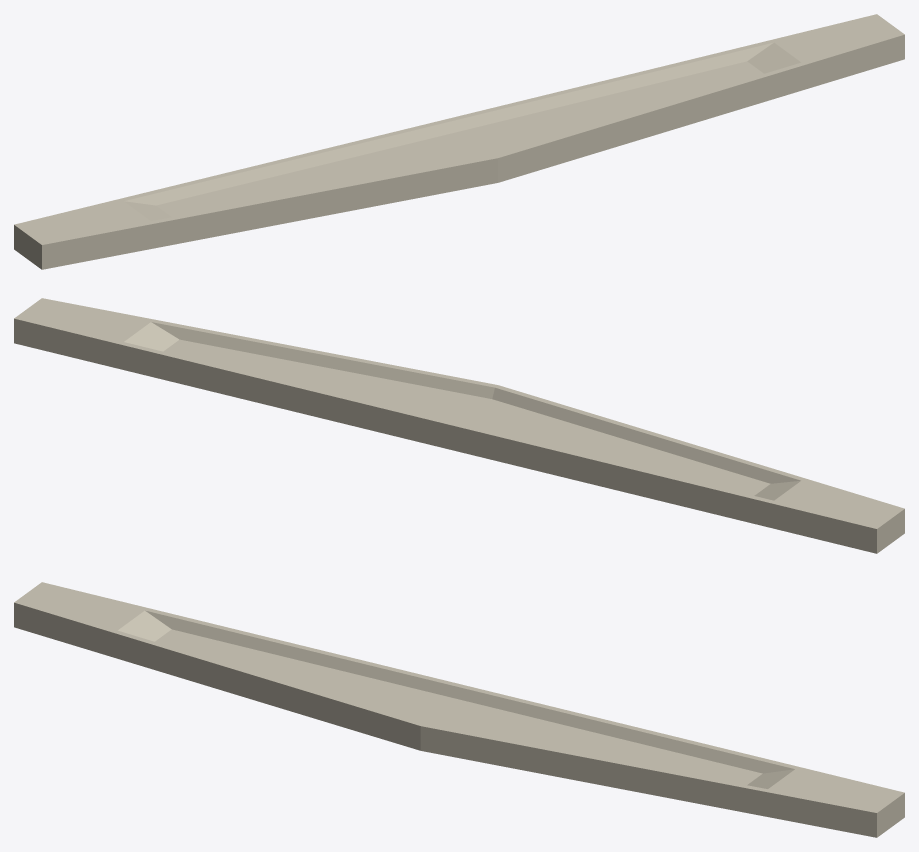
The model's file is Cirtesu - Viga techo.obj.
The picture shows the model from 3 angles, top to bottom: view 1: azimuth 30°, elevation 25°; view 2: azimuth 150°, elevation 25°; view 3: azimuth 330°, elevation 25°; orthographic projection.
Visible parts, largest first — view 1: mesh14, mesh12, mesh4, mesh1, mesh15, mesh16, mesh3; view 2: mesh2, mesh14, mesh12, mesh13, mesh17, mesh16, mesh3; view 3: mesh14, mesh12, mesh1, mesh4, mesh15, mesh18, mesh0.
Boxes of the visible parts, <box> form: mesh14: <box>156,61,763,216</box>; mesh12: <box>14,14,904,244</box>; mesh4: <box>42,158,498,269</box>; mesh1: <box>498,34,904,182</box>; mesh15: <box>124,42,773,205</box>; mesh16: <box>747,42,800,73</box>; mesh3: <box>14,225,41,269</box>; mesh2: <box>14,318,876,553</box>; mesh14: <box>163,339,770,495</box>; mesh12: <box>14,298,904,528</box>; mesh13: <box>151,322,494,398</box>; mesh17: <box>492,387,800,483</box>; mesh16: <box>124,322,179,351</box>; mesh3: <box>877,509,904,553</box>; mesh14: <box>155,629,762,784</box>; mesh12: <box>14,582,904,812</box>; mesh1: <box>420,726,876,837</box>; mesh4: <box>14,602,420,750</box>; mesh15: <box>145,610,794,773</box>; mesh18: <box>118,610,171,641</box>; mesh0: <box>877,793,904,837</box>.
Bounding box in the file's own units: 14.6 × 0.4 × 1.55.
